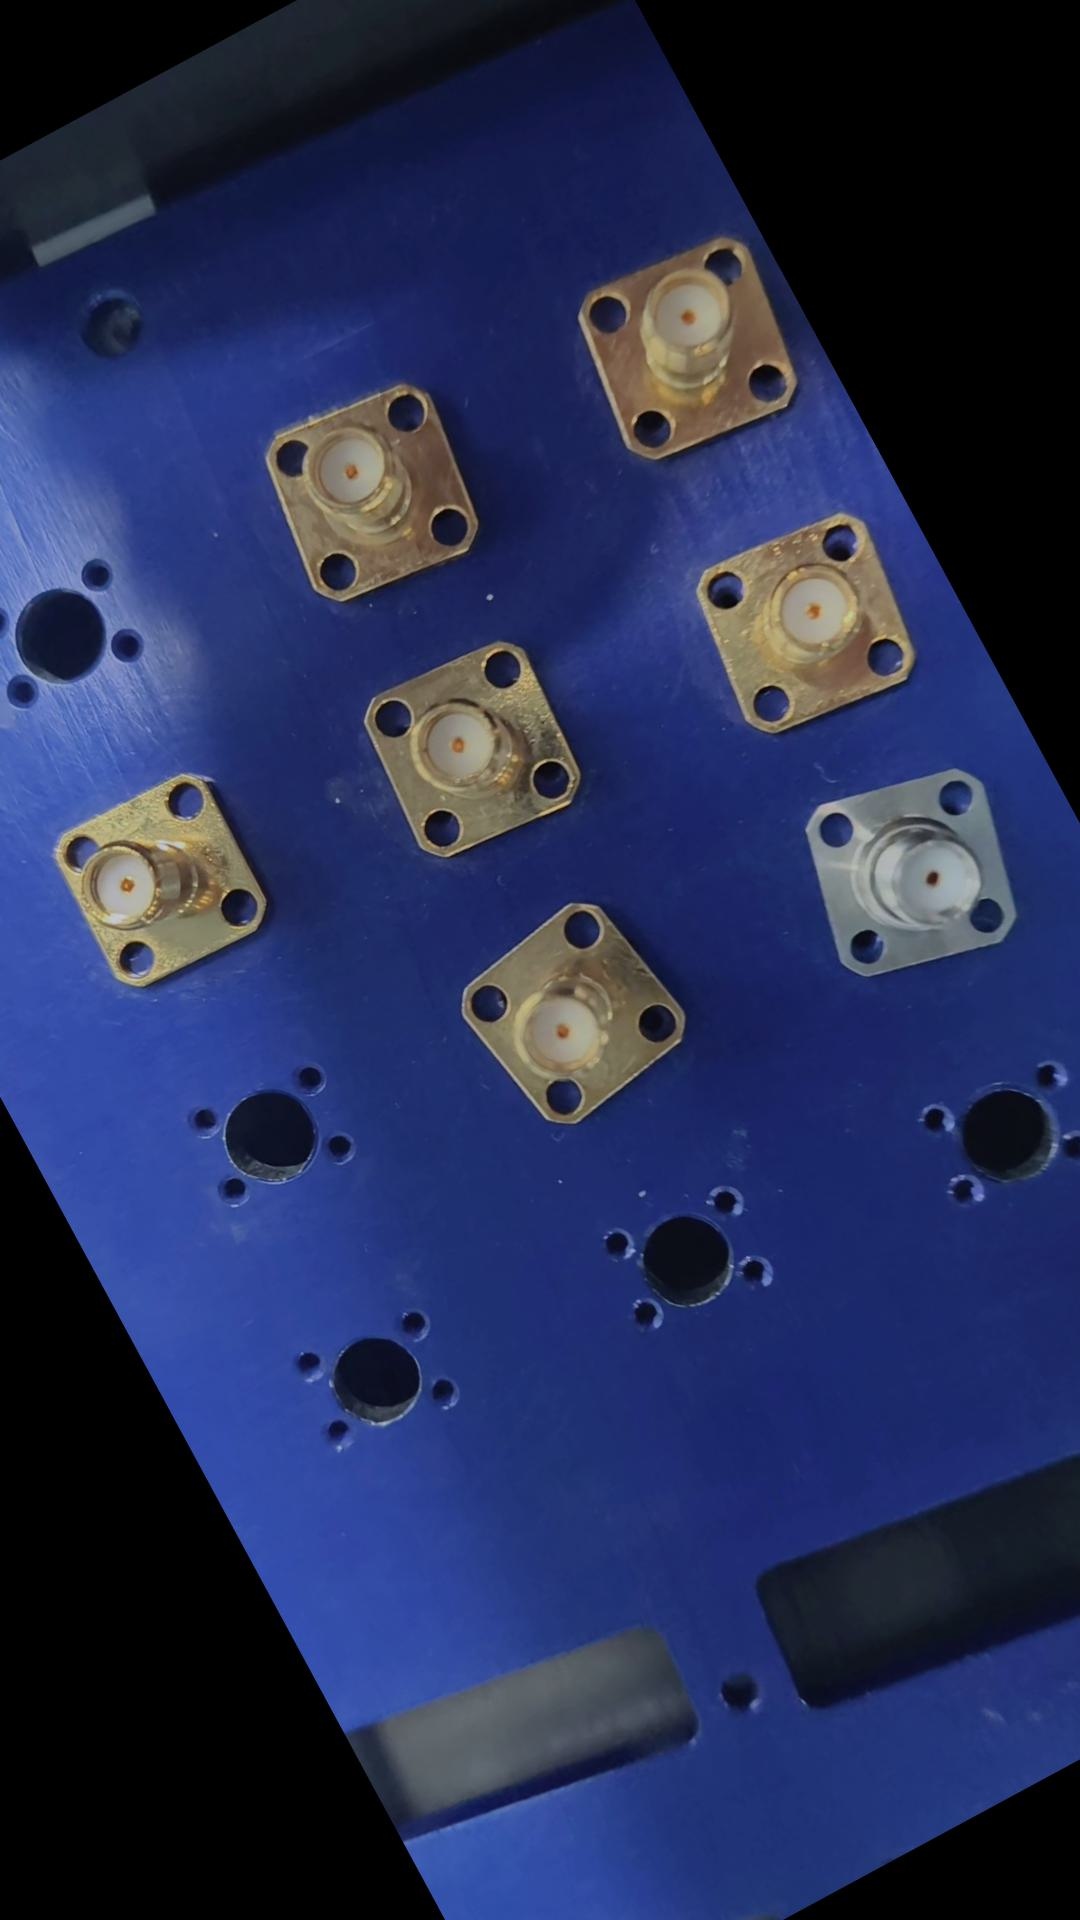SMA: (749, 728, 1054, 1030), (659, 491, 939, 774), (426, 876, 705, 1155), (328, 618, 609, 895), (545, 225, 827, 498), (225, 357, 505, 630), (26, 754, 286, 1013)
